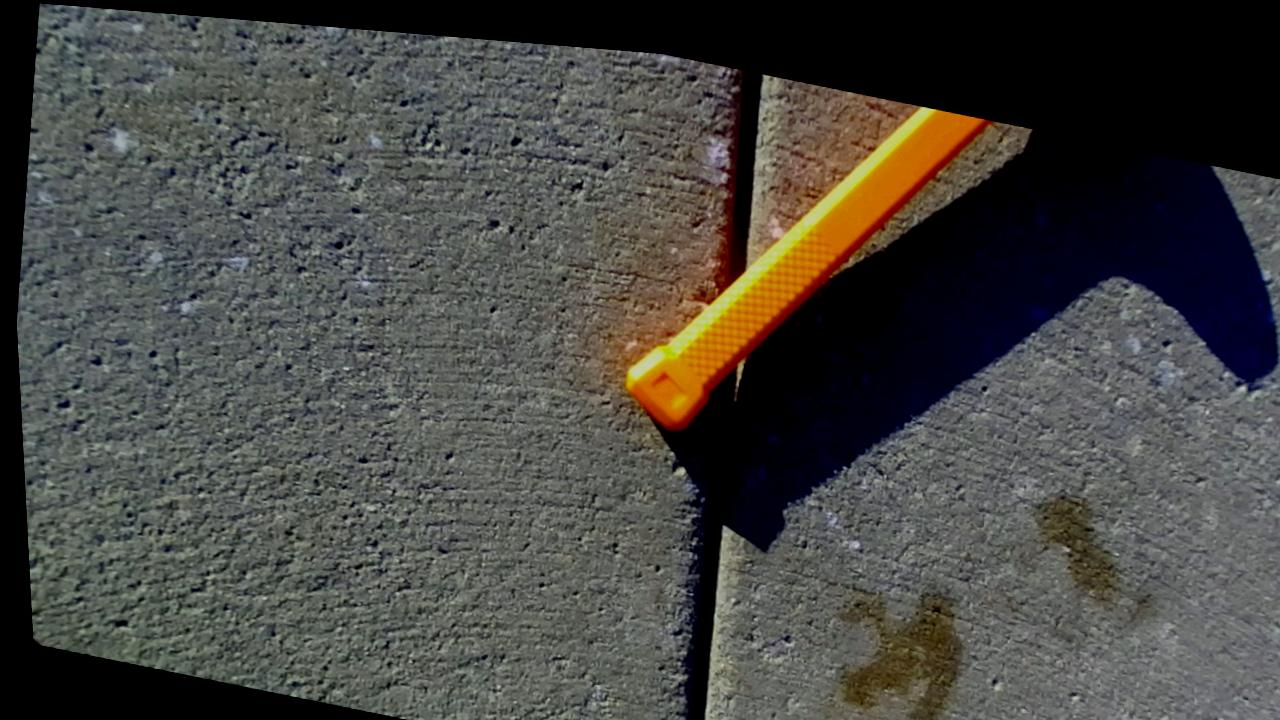mallet: (628, 106, 989, 429)
